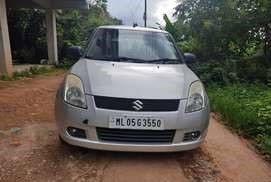ML0563550: (109, 116, 163, 130)
